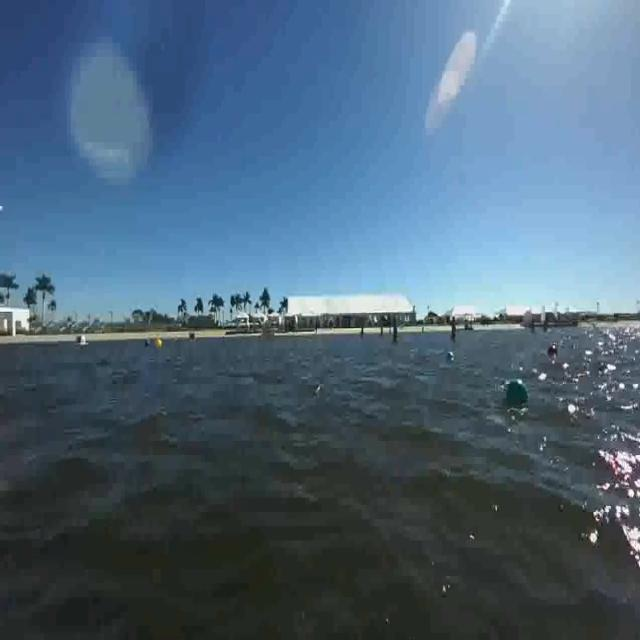green-buoy: (504, 377, 526, 403)
